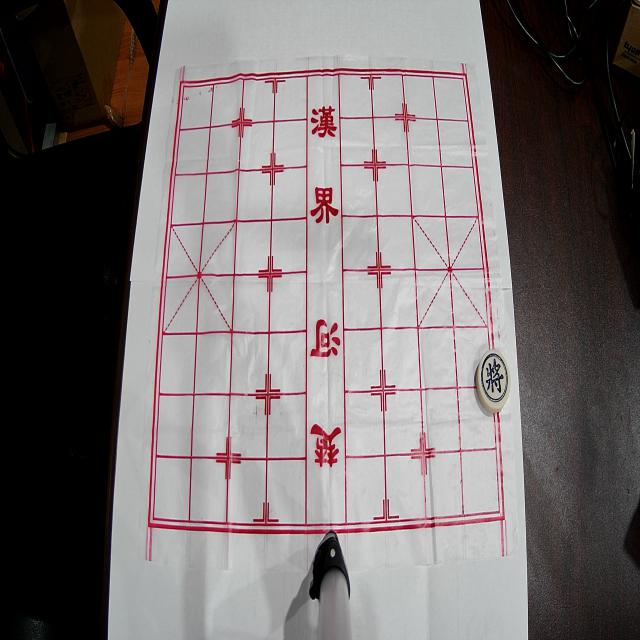black-general: (476, 349, 511, 413)
